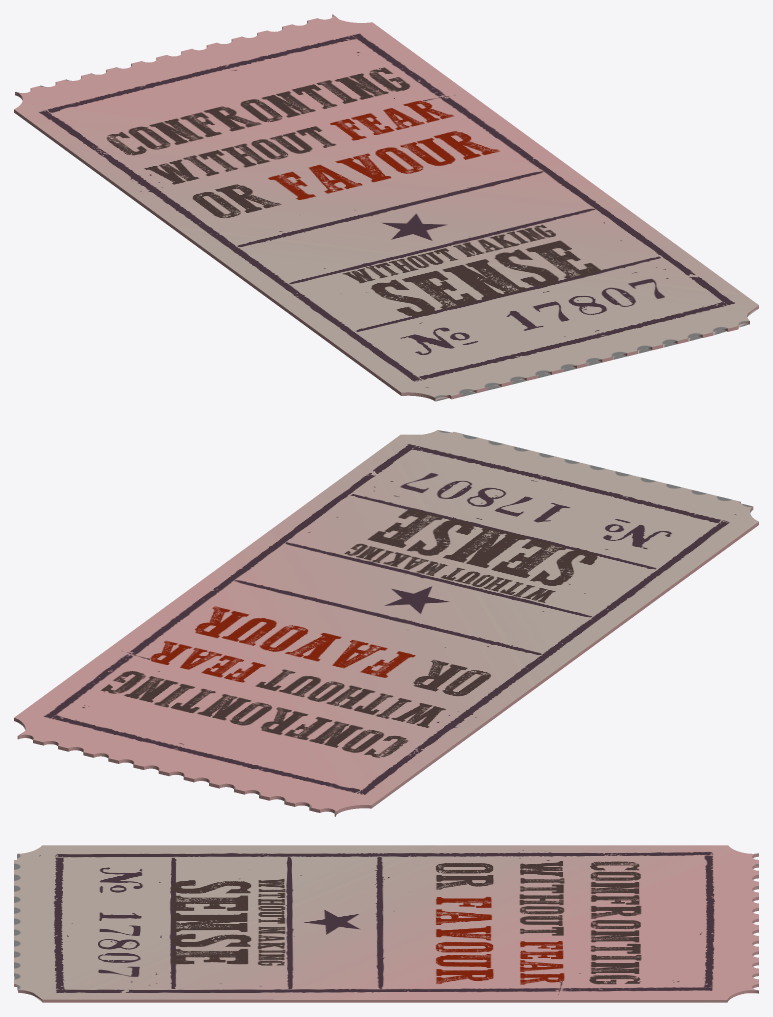
File: ticket.obj
3 renders of one model, top to bottom at view 1: azimuth 30°, elevation 25°; view 2: azimuth 150°, elevation 25°; view 3: azimuth 270°, elevation 25°, orthographic. The views are drawn at different scales.
Visible parts, largest first — view 1: tikcet:Card_2; view 2: tikcet:Card_2; view 3: tikcet:Card_2.
Boxes of the visible parts, <box> form: tikcet:Card_2: <box>14,14,758,401</box>; tikcet:Card_2: <box>14,430,758,816</box>; tikcet:Card_2: <box>14,845,758,1002</box>.
Bounding box in the file's own units: 0.0497 × 0.00045 × 0.1012.
Materials: 1 (1 with a texture image).
